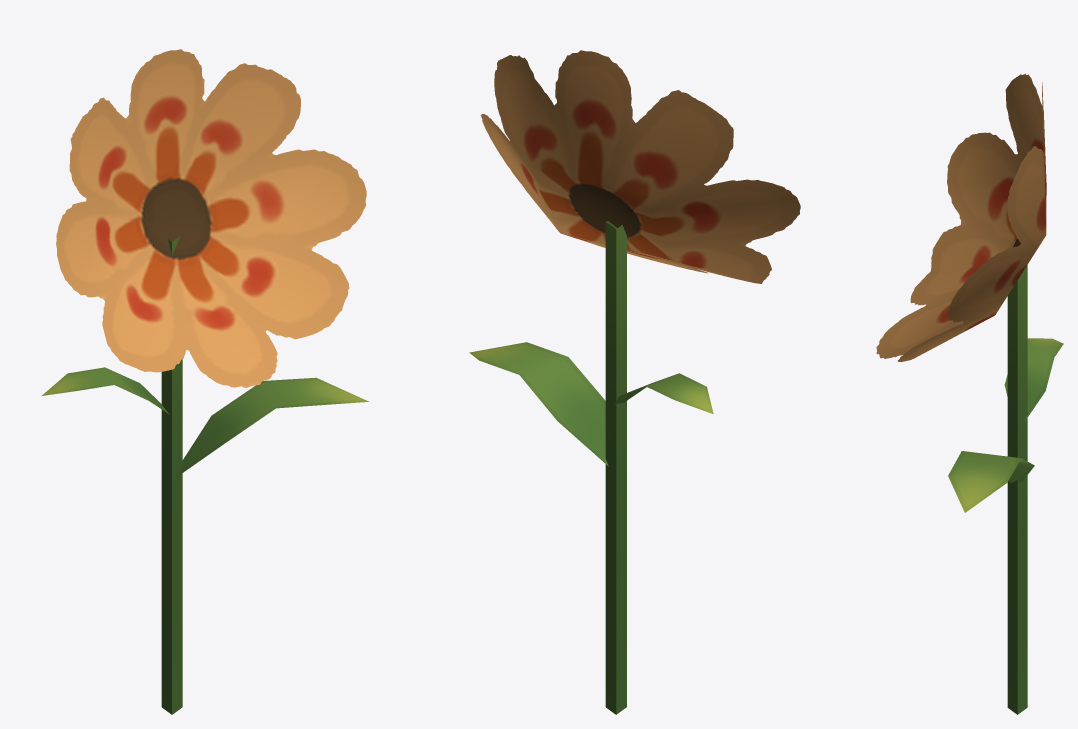
File: yellowFlower_1.fbx
3 renders of one model, left to right at view 1: azimuth 30°, elevation 25°; view 2: azimuth 150°, elevation 25°; view 3: azimuth 270°, elevation 25°, orthographic. The views are drawn at different scales.
Parts seen in each view (by area): view 1: yellowFlower_1; view 2: yellowFlower_1; view 3: yellowFlower_1.
Boxes of the visible parts, x1,y1,x2,y2 form: yellowFlower_1: (42, 49, 369, 714); yellowFlower_1: (469, 50, 800, 714); yellowFlower_1: (876, 73, 1063, 714).
Size of the model in its own units: 0.4426 by 0.8652 by 0.241.
